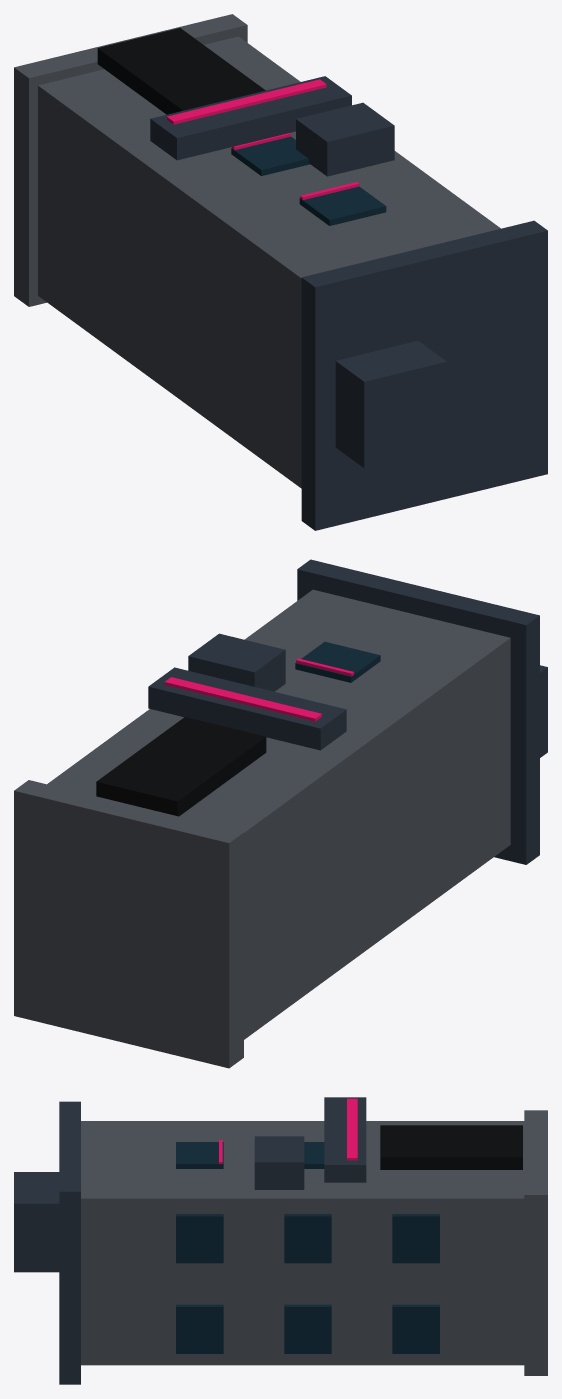
The model's file is ENV_building_south.obj.
The picture shows the model from 3 angles, top to bottom: view 1: azimuth 30°, elevation 25°; view 2: azimuth 150°, elevation 25°; view 3: azimuth 270°, elevation 25°; orthographic projection. The views are drawn at different scales.
Parts seen in each view (by area): view 1: ENV_building_south; view 2: ENV_building_south; view 3: ENV_building_south.
Boxes of the visible parts, x1,y1,x2,y2 form: ENV_building_south: (14, 14, 547, 530); ENV_building_south: (14, 559, 547, 1068); ENV_building_south: (14, 1097, 547, 1384).
Bounding box in the file's own units: 1.97 × 2.16 × 4.94.
